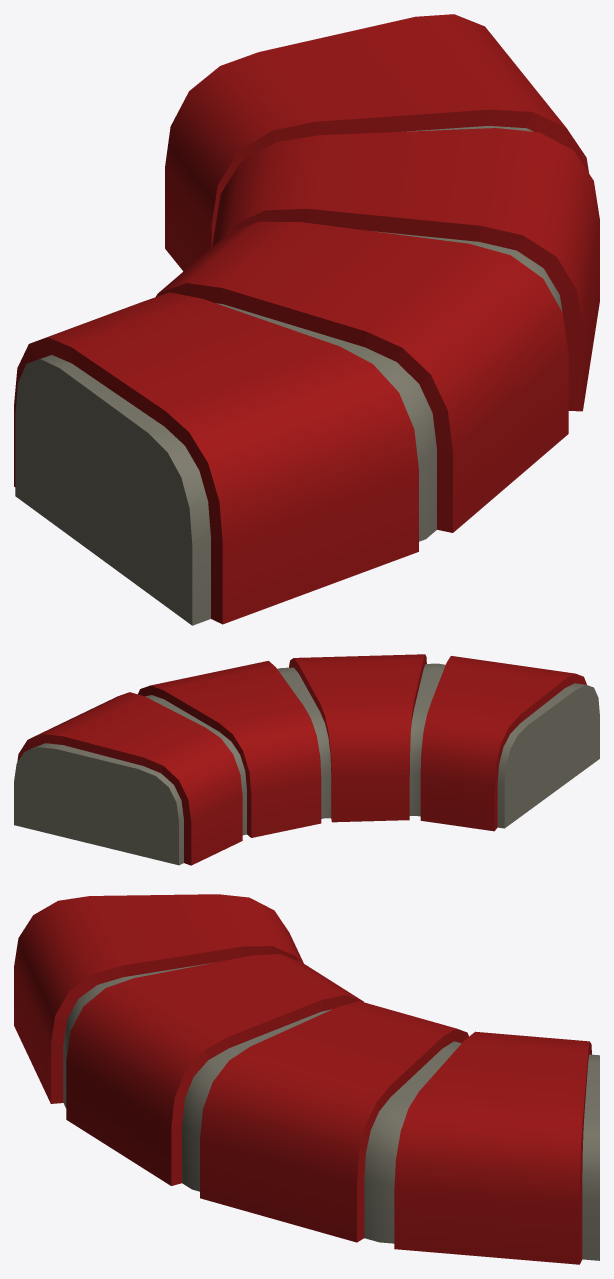
The model's file is Edge_Brick_corner_75.FBX.
3 renders of one model, top to bottom at view 1: azimuth 30°, elevation 25°; view 2: azimuth 150°, elevation 25°; view 3: azimuth 270°, elevation 25°, orthographic. The views are drawn at different scales.
Visible parts, largest first — view 1: Edge_Brick_corner_75; view 2: Edge_Brick_corner_75; view 3: Edge_Brick_corner_75.
Boxes of the visible parts, bbox=[...] form: Edge_Brick_corner_75: bbox=[14, 14, 599, 625]; Edge_Brick_corner_75: bbox=[14, 654, 599, 865]; Edge_Brick_corner_75: bbox=[14, 894, 599, 1264].
Bounding box in the file's own units: 45.71 × 11 × 45.71.
